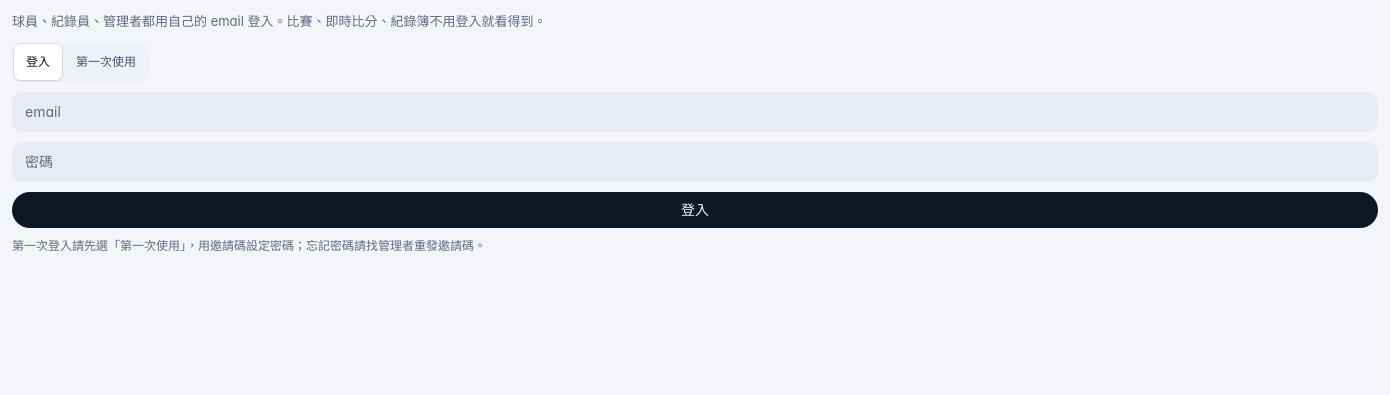
LoginForm 第一次使用 › a wrong 邀請碼 leaves the account browse-only and says so
Click the tab "第一次使用" at (106, 62), box 64,44 -> 148,80
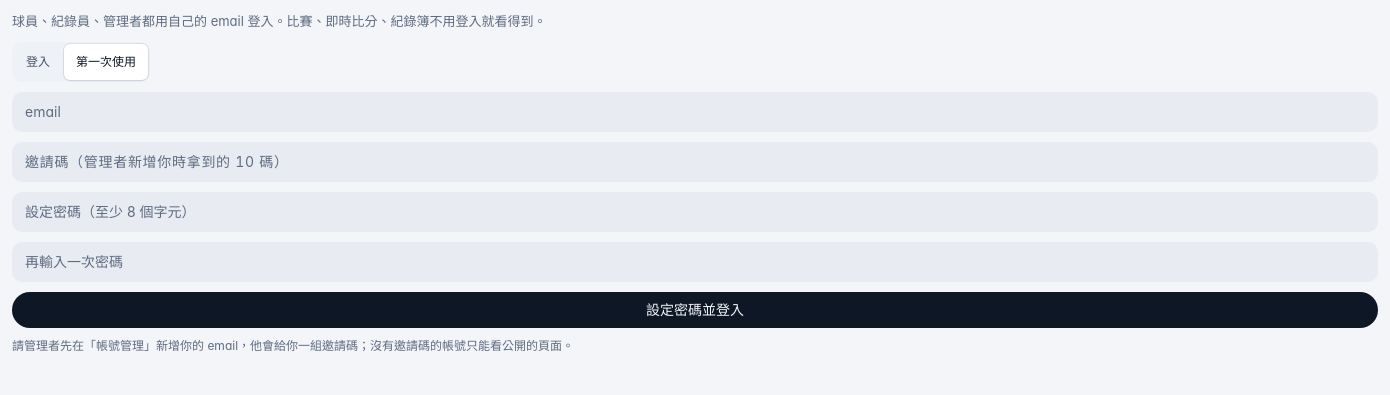
Type "new@gmail.com" into the field labelled "email" at (695, 112), box 12,92 -> 1378,132
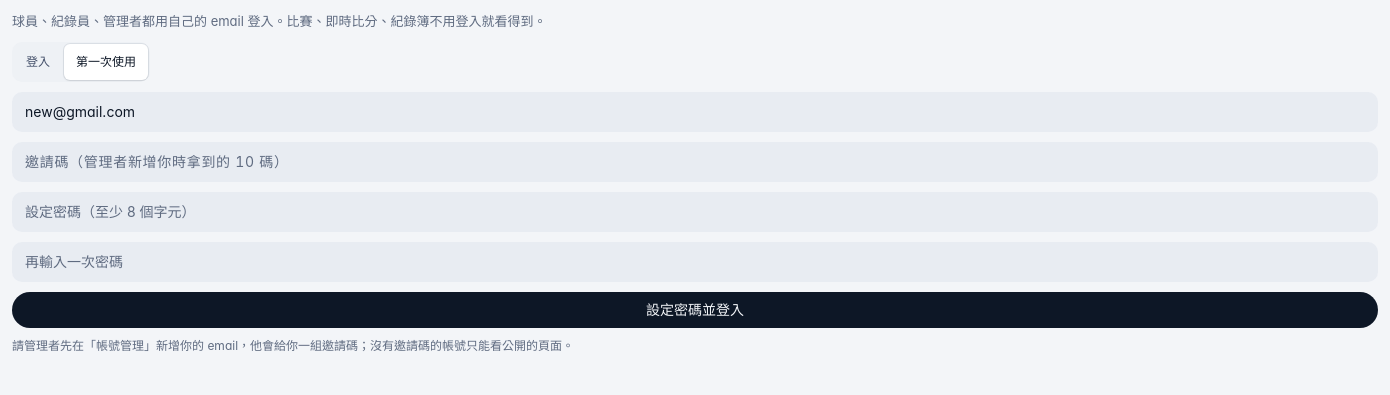
Type "AAAAA-BBBBB" into the field labelled "邀請碼" at (695, 162), box 12,142 -> 1378,182
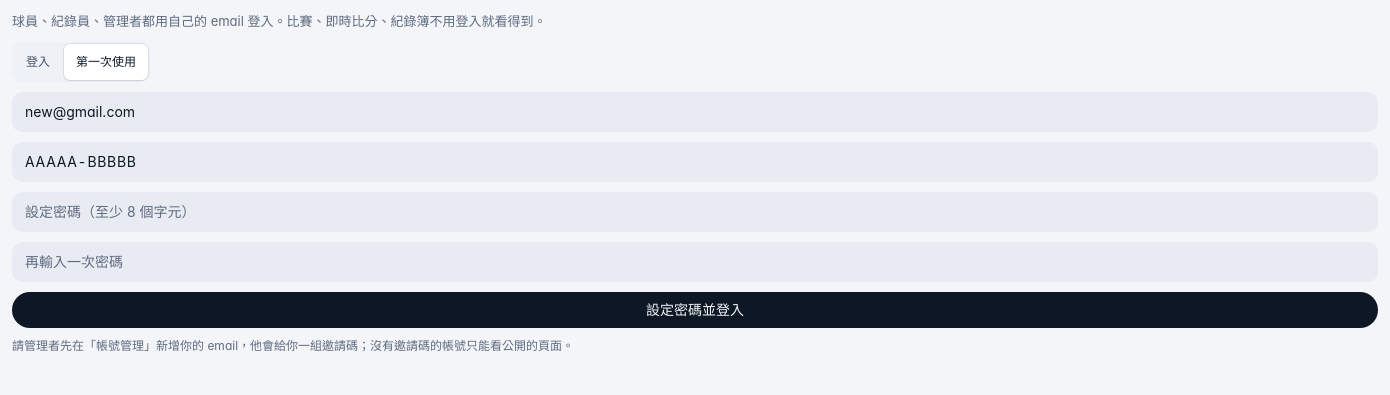
Type "abcdefgh" into the password field labelled "設定密碼" at (695, 212), box 12,192 -> 1378,232
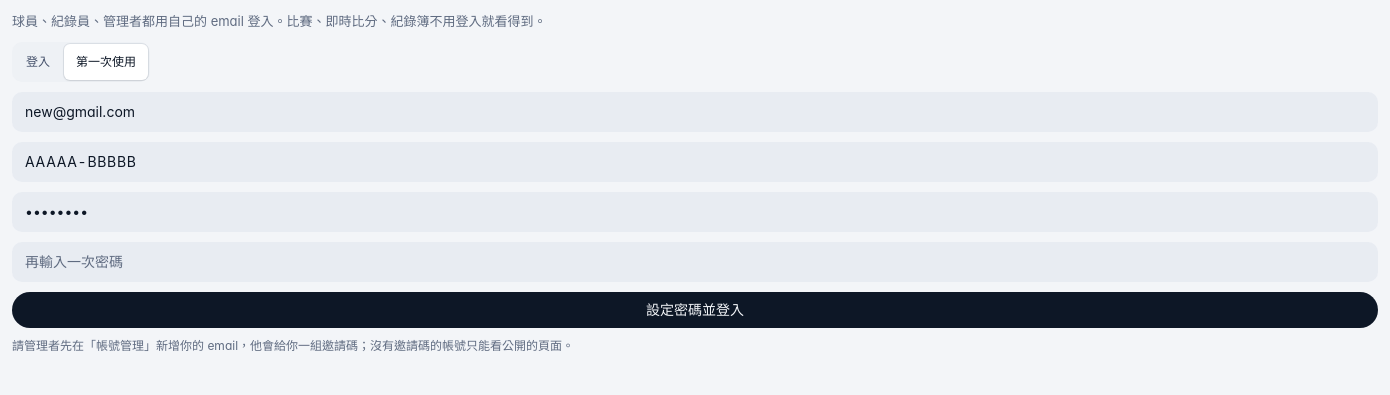
Type "abcdefgh" into the password field labelled "再輸入一次密碼" at (695, 262), box 12,242 -> 1378,282
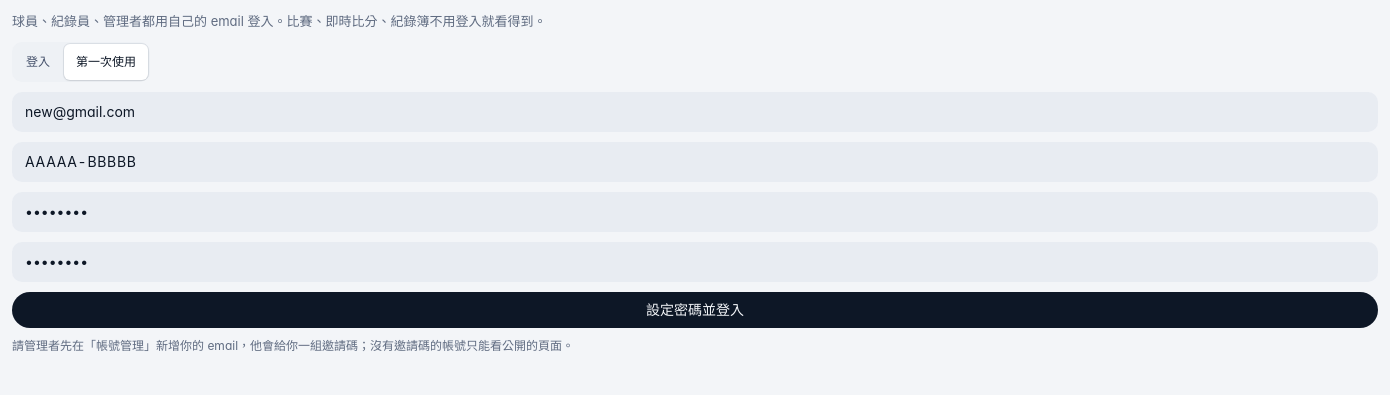
Click the button "設定密碼並登入" at (695, 310), box 12,292 -> 1378,328
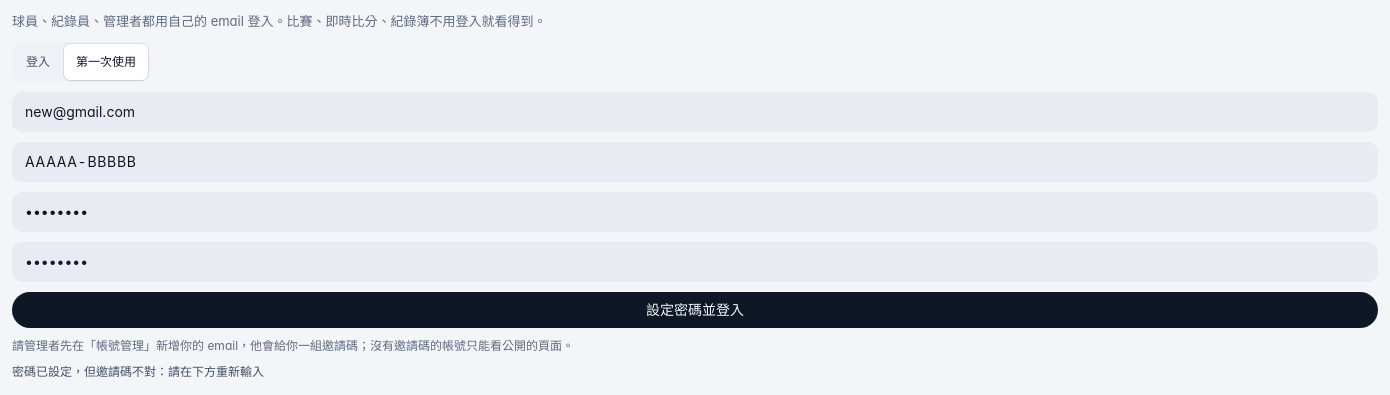
Check: the text "密碼已設定，但邀請碼不對：請在下方重新輸入" is shown, box 12,364 -> 264,378
